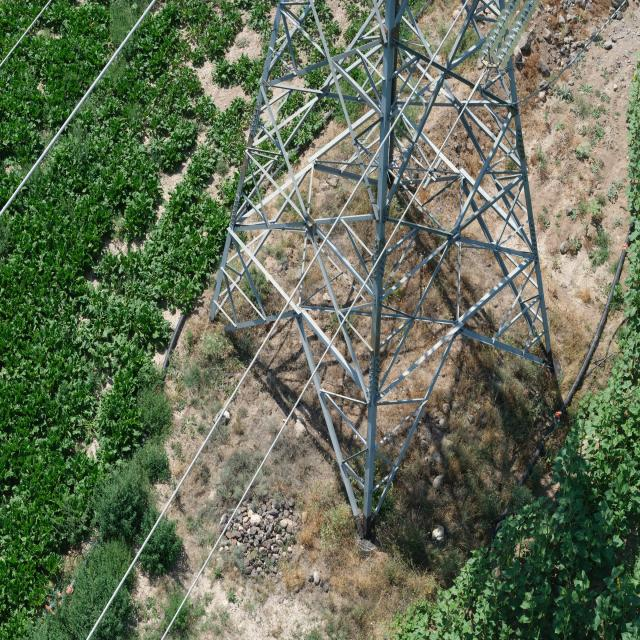direk: (212, 0, 556, 533)
